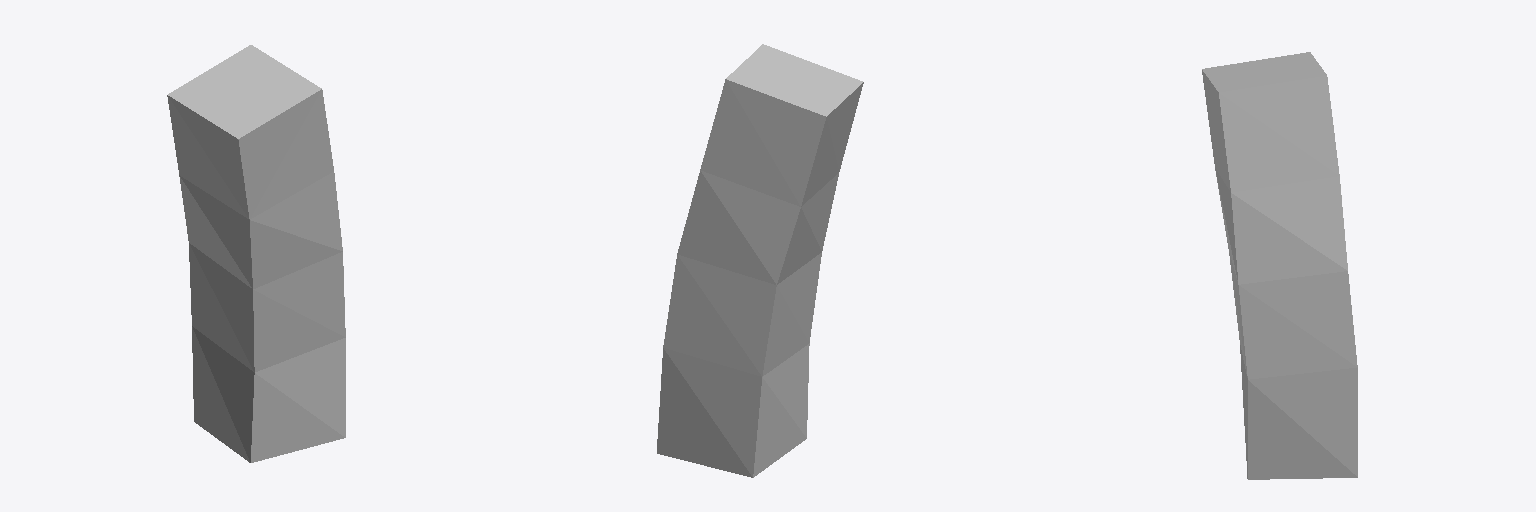
Rendered from wiggle_000010.obj.
The picture shows the model from 3 angles: view 1: azimuth 30°, elevation 25°; view 2: azimuth 150°, elevation 25°; view 3: azimuth 270°, elevation 25°; orthographic projection.
Parts seen in each view (by area): view 1: Cube; view 2: Cube; view 3: Cube.
Boxes of the visible parts, box(x1,y1,x2,y2) form: Cube: box(167, 45, 345, 462); Cube: box(657, 44, 863, 477); Cube: box(1202, 52, 1357, 479).
Size of the model in its own units: 3.07 by 7.56 by 2.83.